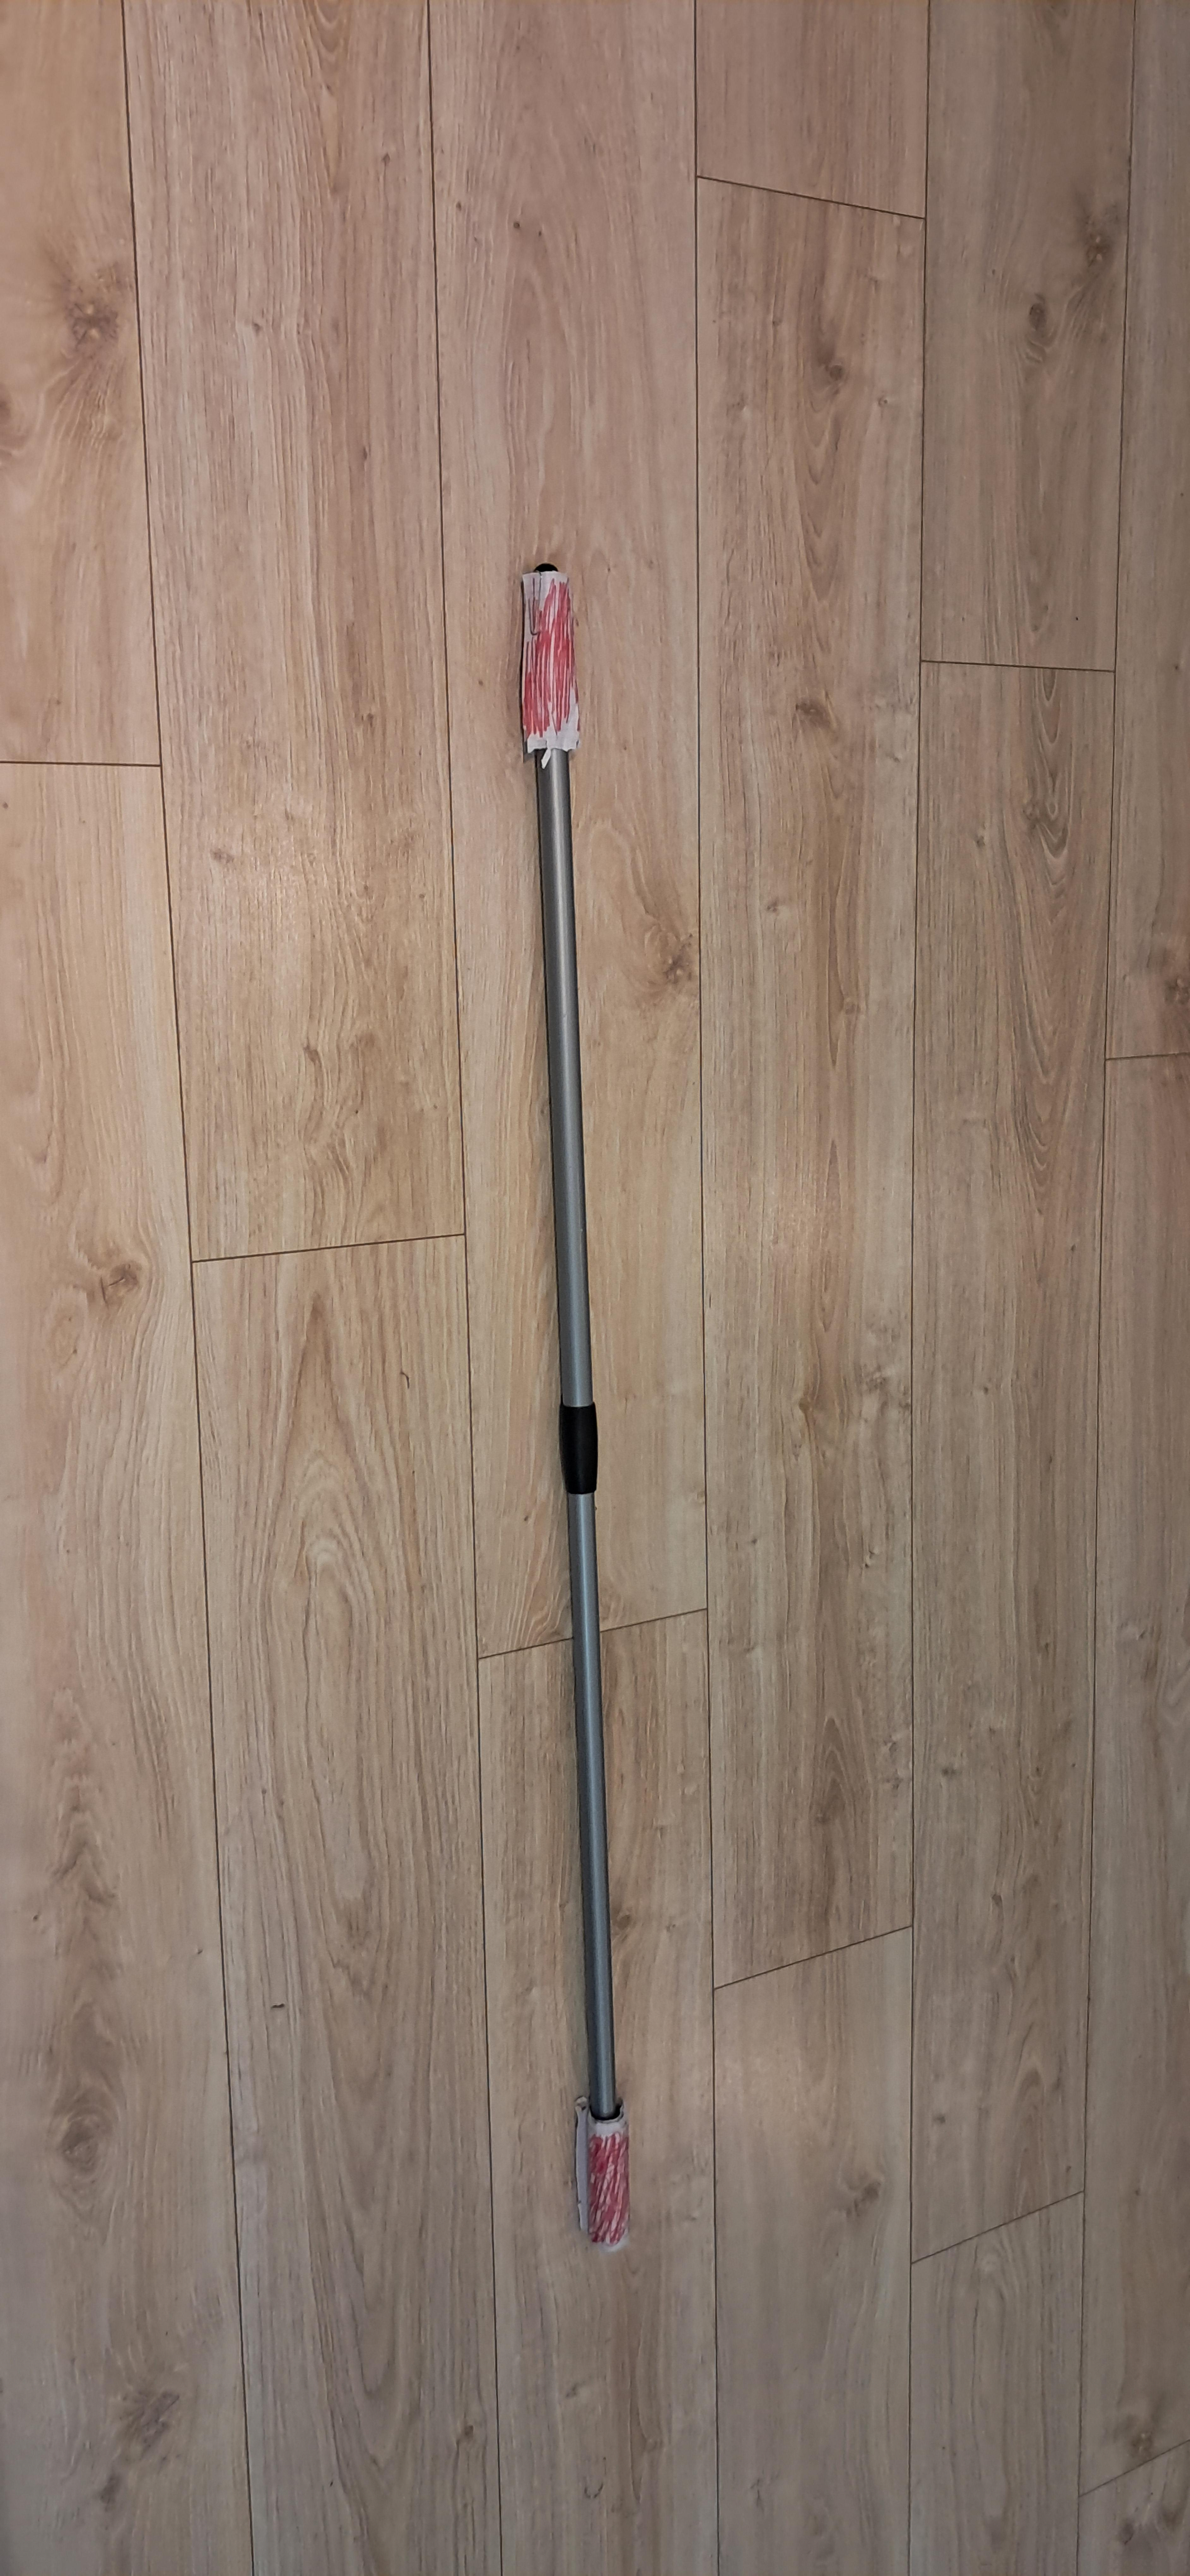broom-handle: (523, 567, 628, 2247)
